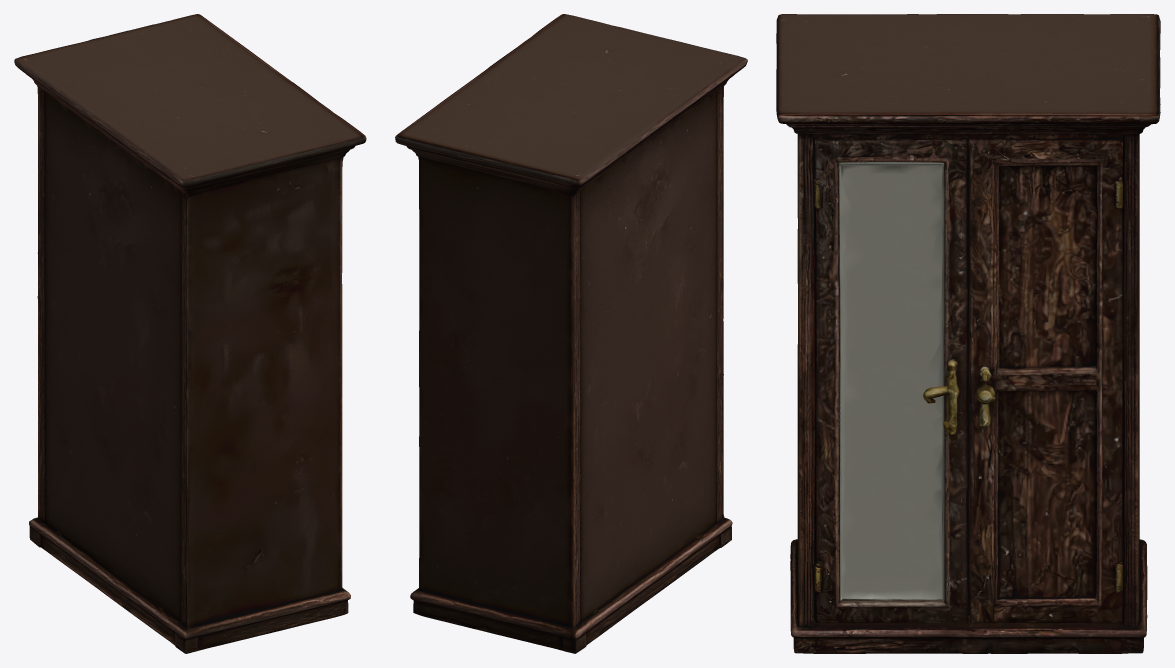
3 renders of one model, left to right at view 1: azimuth 30°, elevation 25°; view 2: azimuth 150°, elevation 25°; view 3: azimuth 270°, elevation 25°, orthographic. The views are drawn at different scales.
Visible parts, largest first — view 1: tripo_node_bc4ae101-55be-4422-af8a-5e9411e8a78b; view 2: tripo_node_bc4ae101-55be-4422-af8a-5e9411e8a78b; view 3: tripo_node_bc4ae101-55be-4422-af8a-5e9411e8a78b.
Part boxes in pixels (x1,y1,x2,y2): tripo_node_bc4ae101-55be-4422-af8a-5e9411e8a78b: [14, 14, 366, 653]; tripo_node_bc4ae101-55be-4422-af8a-5e9411e8a78b: [395, 14, 747, 653]; tripo_node_bc4ae101-55be-4422-af8a-5e9411e8a78b: [776, 14, 1160, 653].
Bounding box in the file's own units: 0.41 × 1 × 0.6386.
1 material, 1 textured.
